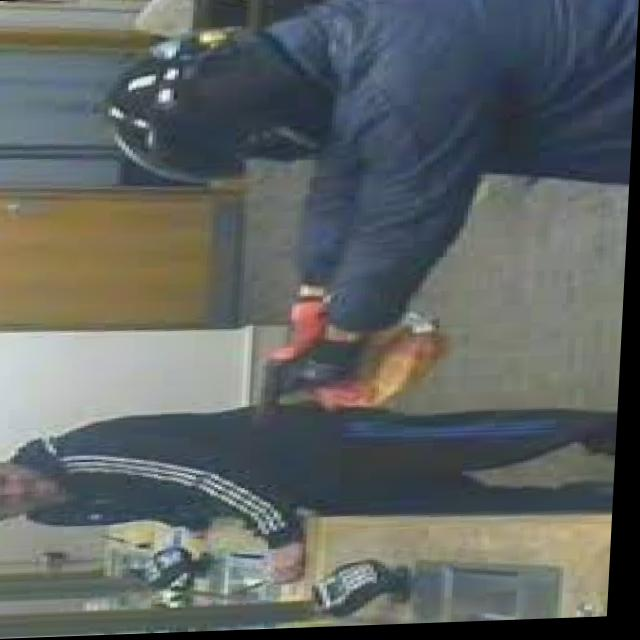handgun: (241, 342, 393, 440)
